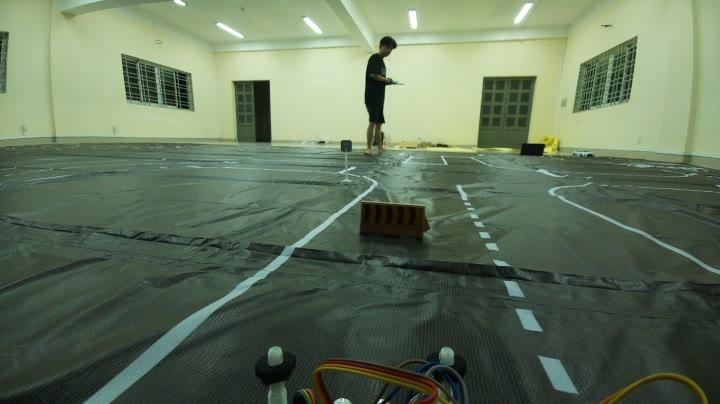roadblock: (352, 194, 434, 248)
